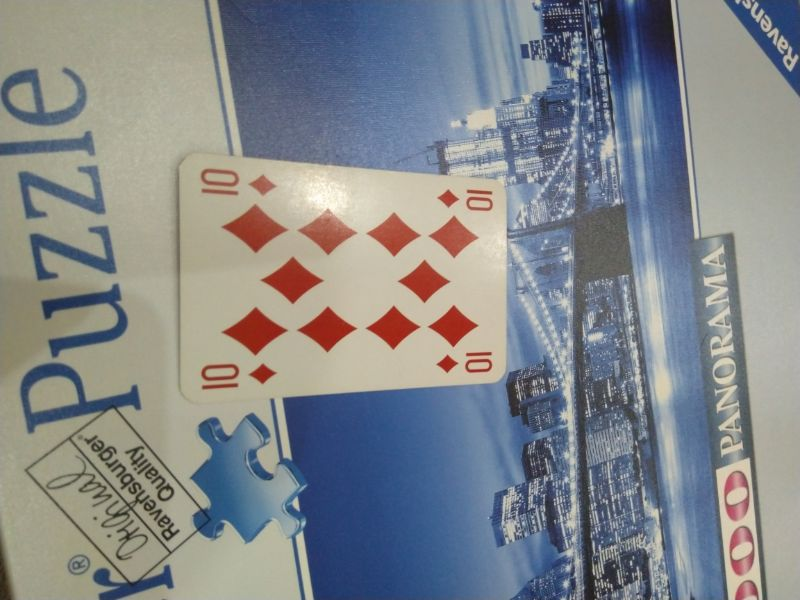Td: (194, 163, 282, 199), (198, 357, 280, 393), (434, 182, 496, 214), (437, 350, 496, 376)
